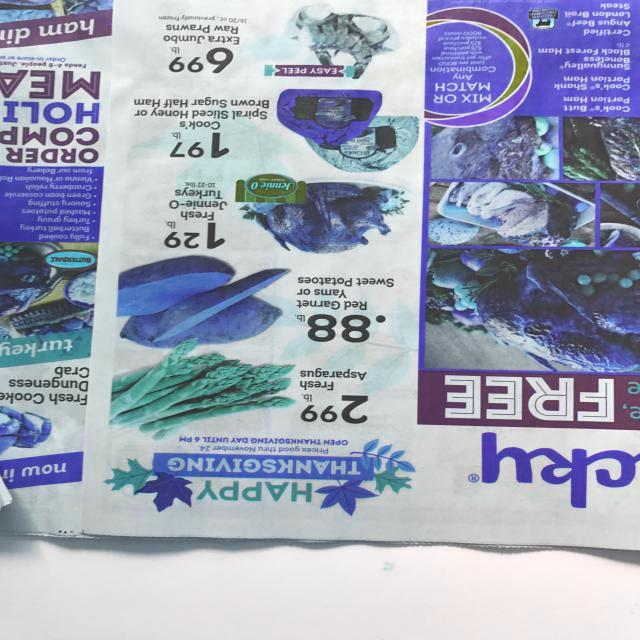paper: (0, 0, 640, 555)
